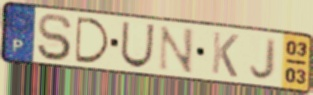D: (74, 15, 112, 65)
J: (248, 36, 279, 81)
K: (209, 30, 241, 80)
N: (157, 24, 196, 75)
S: (35, 12, 74, 63)
U: (118, 20, 156, 70)
